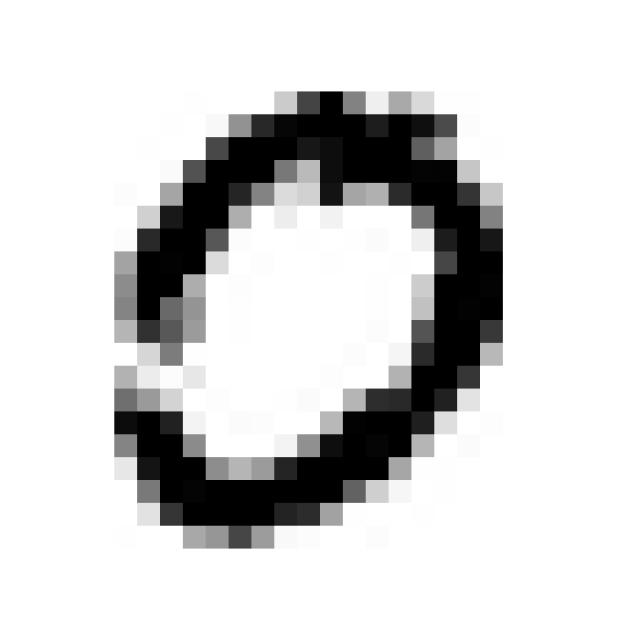5 -five-: (87, 71, 512, 555)
